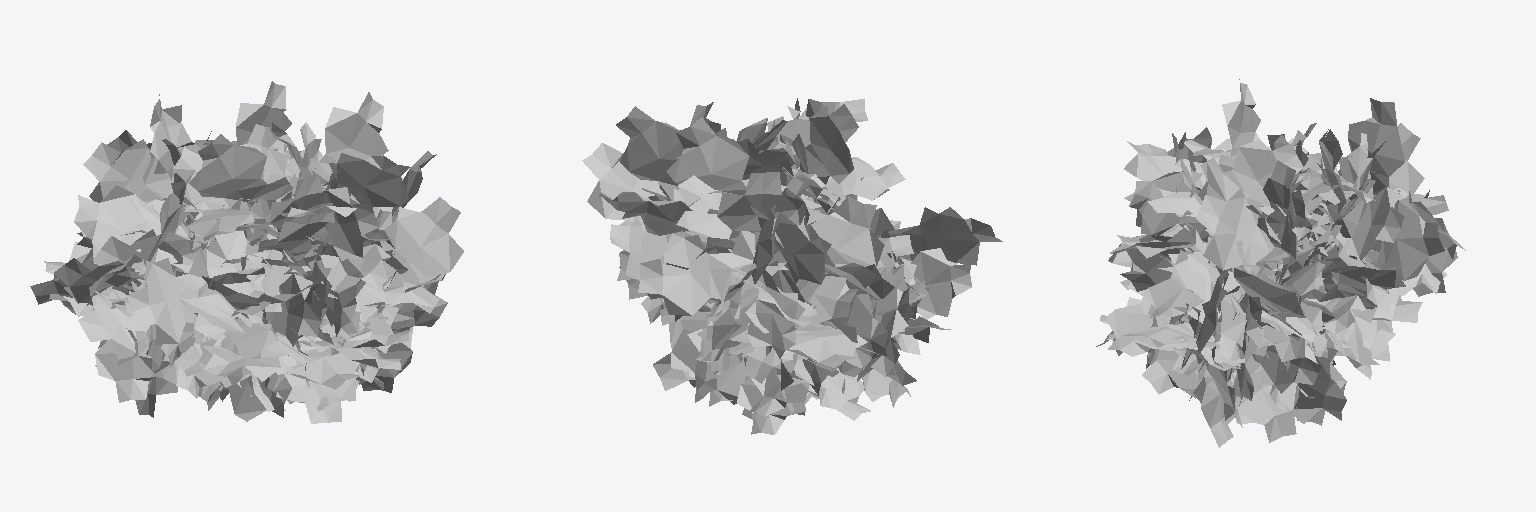
The model's file is leaves.obj.
3 views of the same model, side by side, from view 1: azimuth 30°, elevation 25°; view 2: azimuth 150°, elevation 25°; view 3: azimuth 270°, elevation 25° (orthographic).
Parts seen in each view (by area): view 1: Tree_Branch; view 2: Tree_Branch; view 3: Tree_Branch.
Part boxes in pixels (x1,y1,x2,y2): Tree_Branch: (30, 81, 463, 423); Tree_Branch: (582, 98, 1002, 434); Tree_Branch: (1096, 79, 1465, 447).
Size of the model in its own units: 23.59 by 19.02 by 21.28.